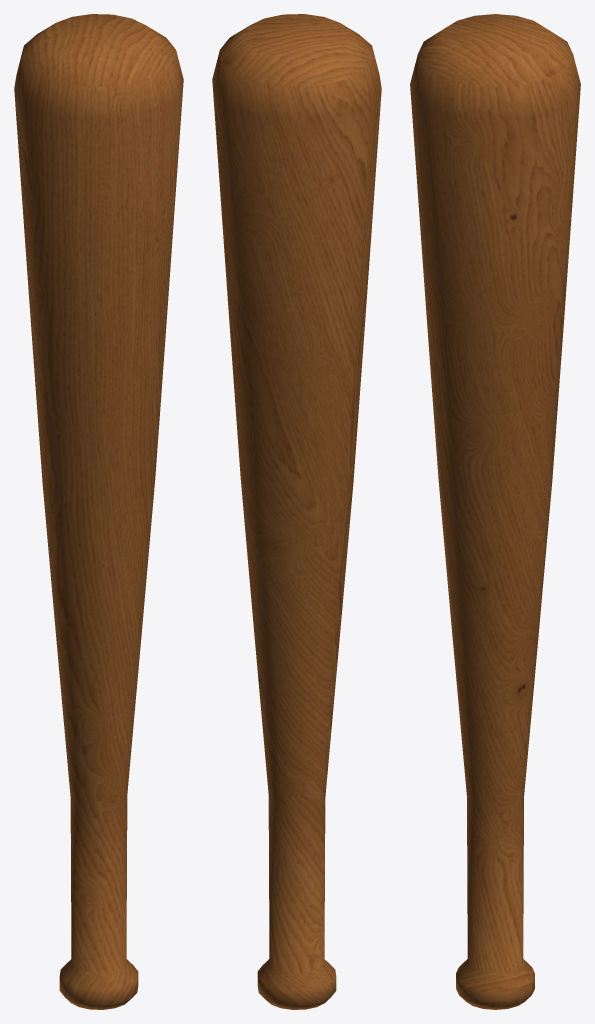
File: awpZabur.fbx
3 renders of one model, left to right at view 1: azimuth 30°, elevation 25°; view 2: azimuth 150°, elevation 25°; view 3: azimuth 270°, elevation 25°, orthographic.
Parts seen in each view (by area): view 1: RetopoFlow.002; view 2: RetopoFlow.002; view 3: RetopoFlow.002.
Part boxes in pixels (bbox=[...]): RetopoFlow.002: bbox=[14, 14, 183, 1009]; RetopoFlow.002: bbox=[212, 14, 381, 1009]; RetopoFlow.002: bbox=[410, 14, 580, 1009].
Size of the model in its own units: 15.83 by 98.49 by 15.83.
